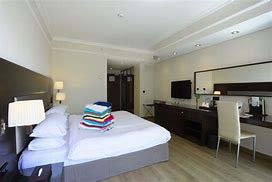copymove: (51, 77, 65, 91)
removal: (106, 46, 148, 57)
spliced: (81, 100, 117, 134)
